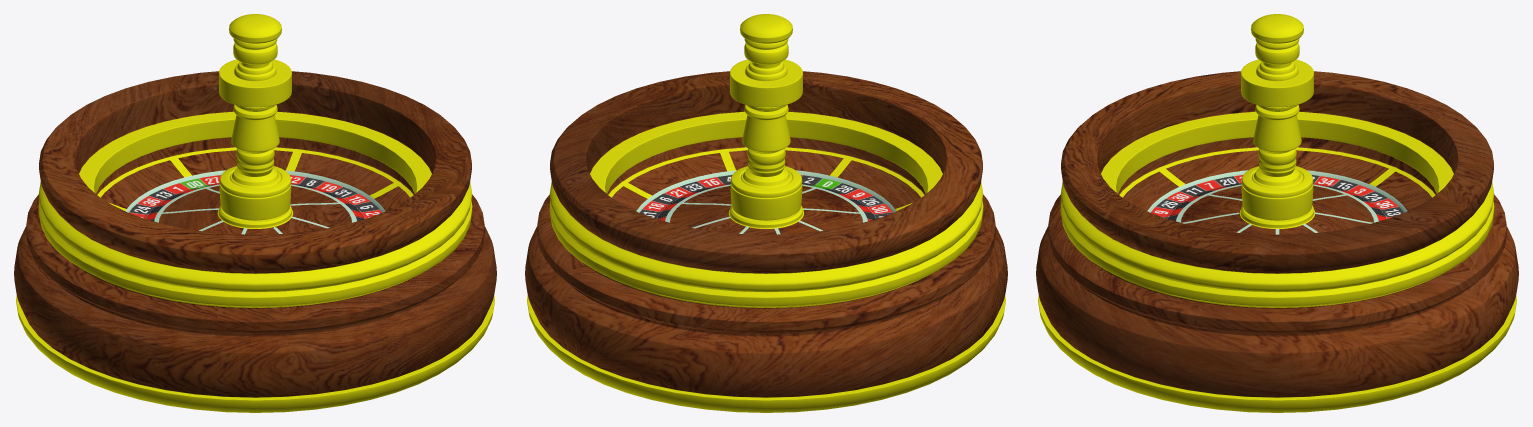
File: roulette.fbx
3 views of the same model, side by side, from view 1: azimuth 30°, elevation 25°; view 2: azimuth 150°, elevation 25°; view 3: azimuth 270°, elevation 25° (orthographic).
Visible parts, largest first — view 1: Cylinder; view 2: Cylinder; view 3: Cylinder.
Boxes of the visible parts, x1,y1,x2,y2 form: Cylinder: [14, 14, 496, 412]; Cylinder: [525, 14, 1007, 412]; Cylinder: [1036, 14, 1518, 412].
Size of the model in its own units: 214 by 145 by 214.
